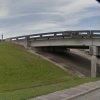Bridge: (13, 22, 99, 58)
